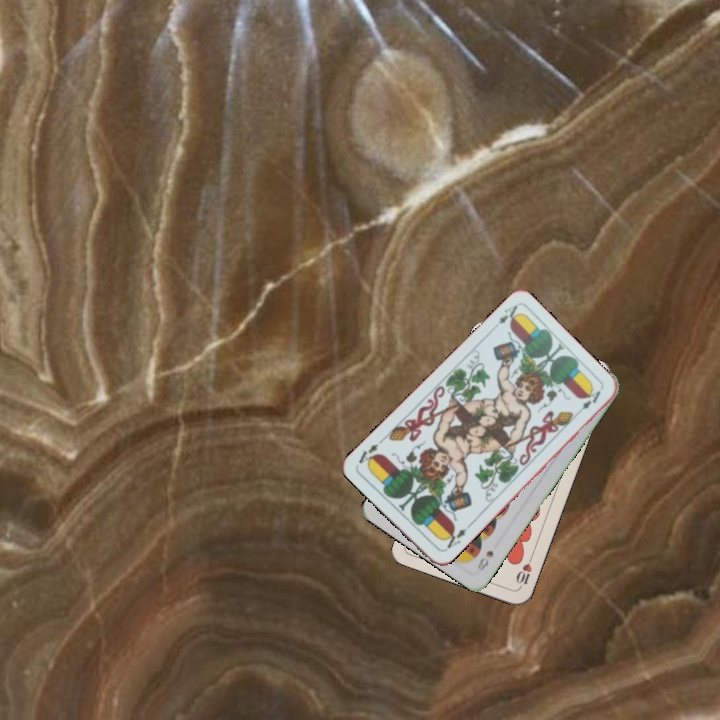EA: (440, 521, 472, 554), (494, 301, 522, 327)
H10: (512, 552, 535, 591)
S8: (473, 546, 496, 574)
